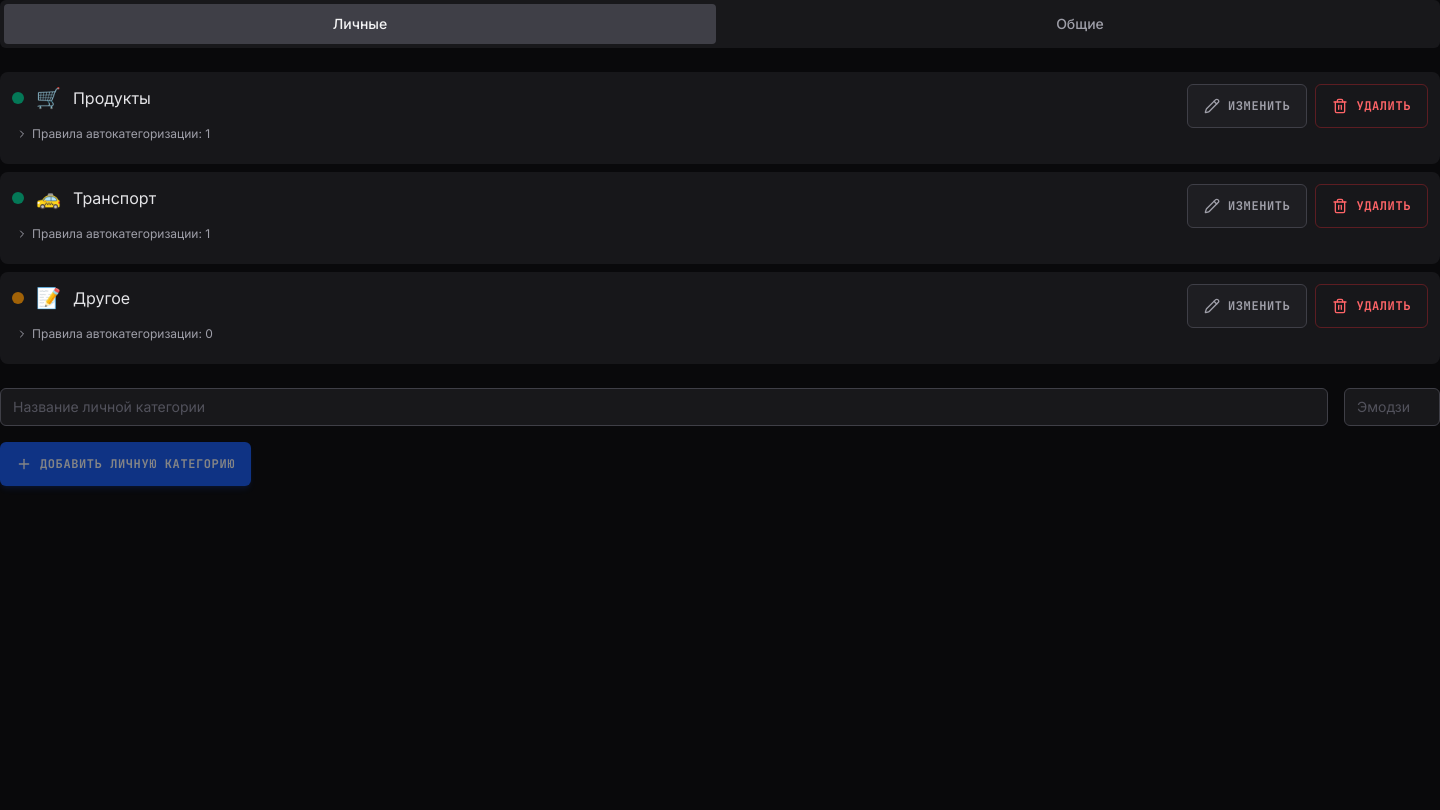
Test: CategoryManager › uses the singular form for one expense
Click the button with aria-label "Удалить Продукты" at (1372, 106), box [1315, 84, 1428, 128]
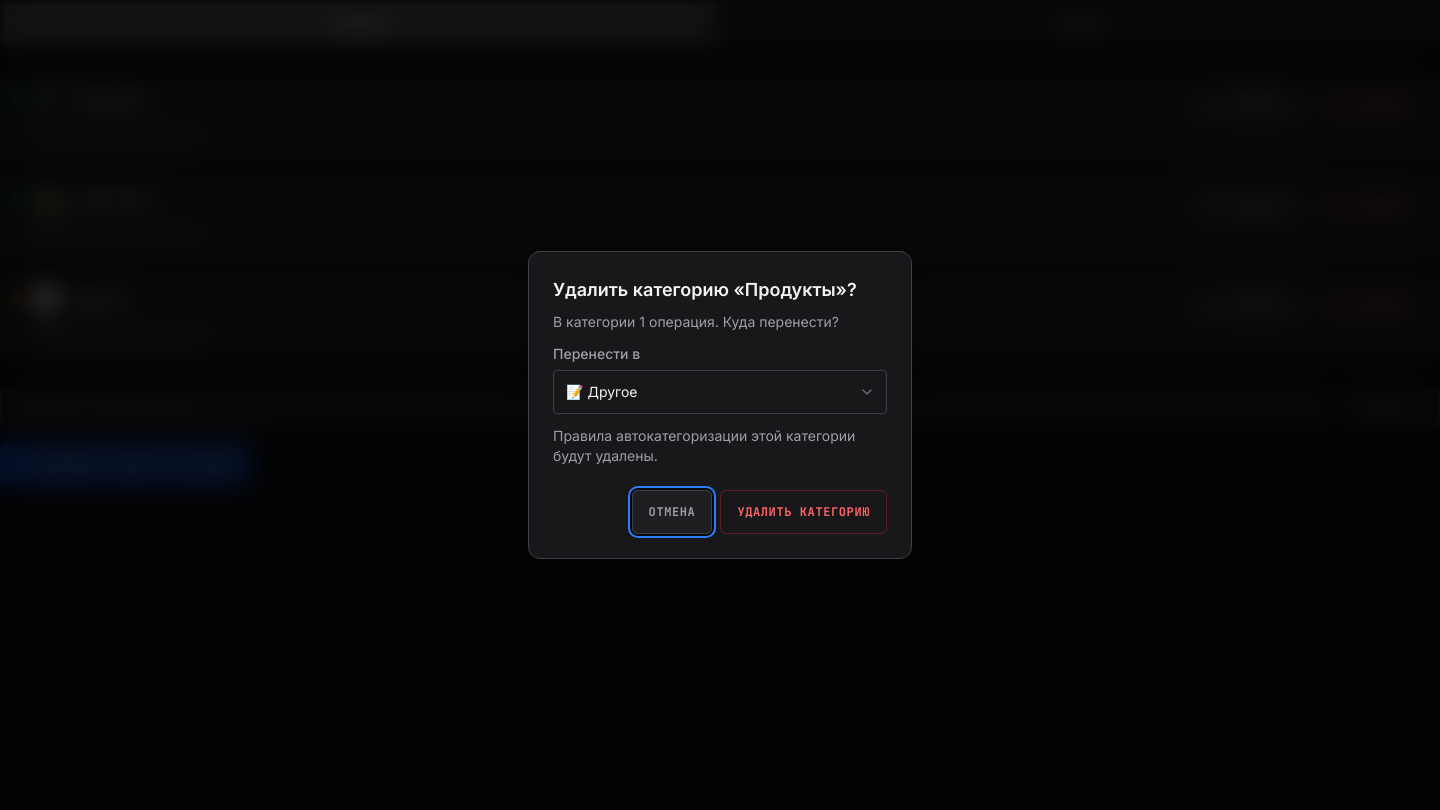
expect the dialog shows "В категории 1 операция. Куда перенести?": met, box [528, 251, 912, 559]
